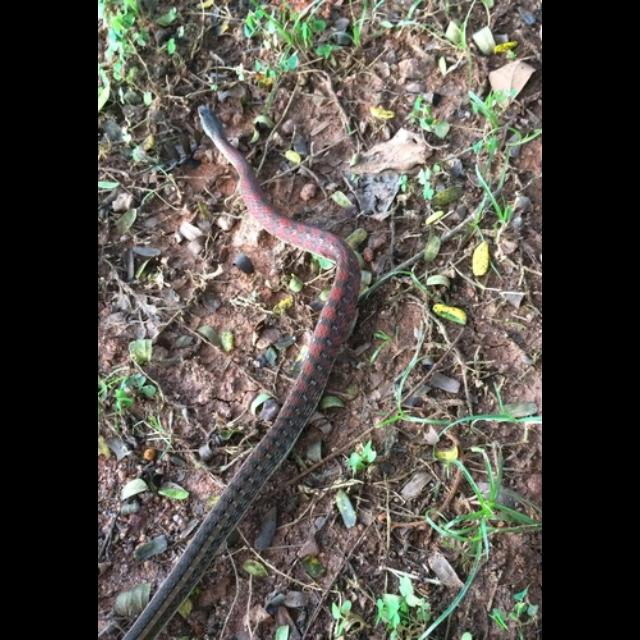snake: (131, 102, 365, 640)
